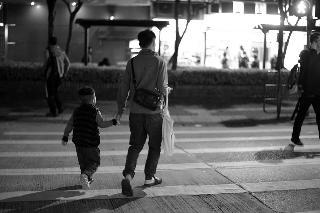person - v3 P: (116, 59, 162, 195), (62, 87, 116, 190), (291, 33, 319, 146), (43, 37, 69, 116), (238, 45, 249, 68), (251, 55, 260, 68), (222, 53, 229, 68), (99, 58, 109, 66), (87, 47, 92, 62)
